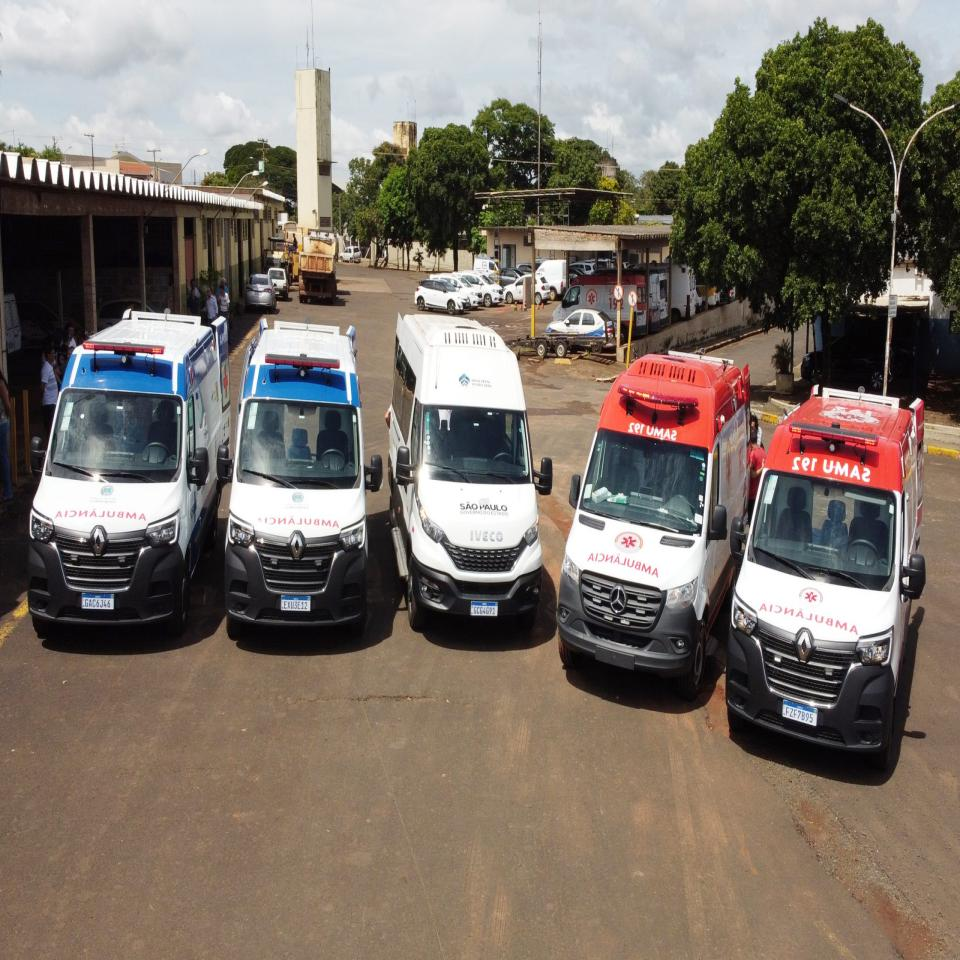bombeiro: (726, 383, 926, 771), (26, 306, 230, 638), (557, 352, 751, 694), (216, 318, 383, 640)
